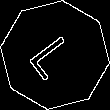L_NE: (26, 27, 84, 83)
